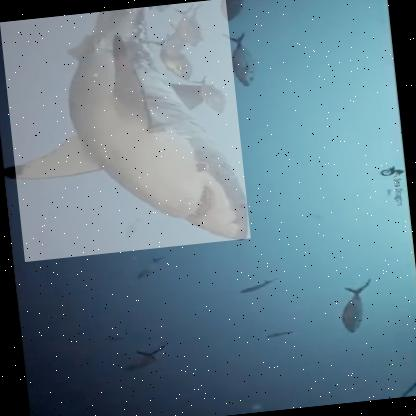white-shark: (0, 0, 251, 263)
